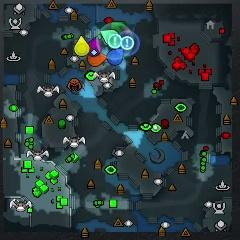Other: (108, 34, 122, 49), (120, 36, 135, 50)
p1: (109, 49, 124, 65)
p2: (101, 30, 118, 46)
p3: (87, 36, 101, 57)
p4: (74, 36, 90, 57)
p5: (88, 54, 107, 66)
x4: (111, 21, 126, 32)
